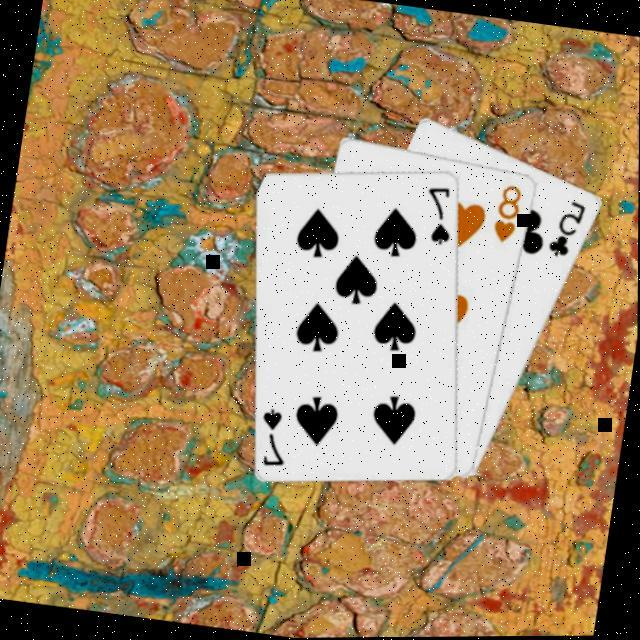5C: (546, 198, 592, 265)
7S: (254, 406, 296, 474), (419, 184, 460, 251)
8H: (489, 182, 528, 250)
